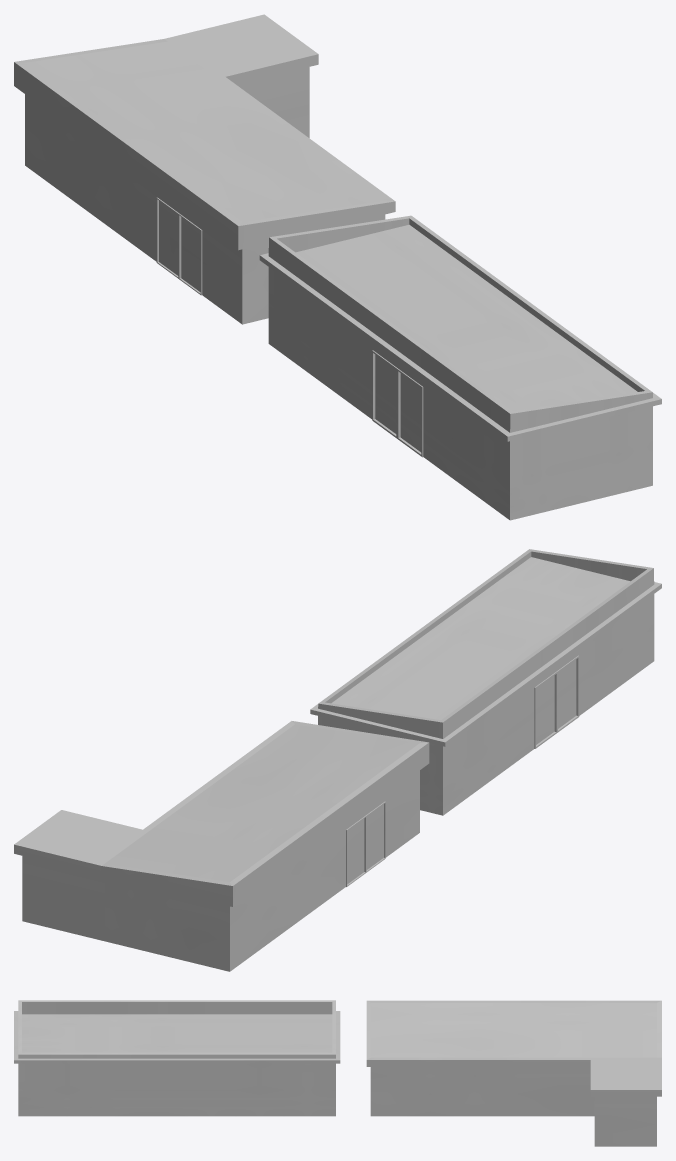
Rendered from Garages.FBX.
The picture shows the model from 3 angles, top to bottom: view 1: azimuth 30°, elevation 25°; view 2: azimuth 150°, elevation 25°; view 3: azimuth 270°, elevation 25°; orthographic projection. The views are drawn at different scales.
Parts seen in each view (by area): view 1: Garages; view 2: Garages; view 3: Garages.
Boxes of the visible parts, box(x1,y1,x2,y2) form: Garages: box(14, 14, 661, 520); Garages: box(14, 549, 661, 971); Garages: box(14, 1000, 661, 1146).
Size of the model in its own units: 1236 by 503 by 4207.
